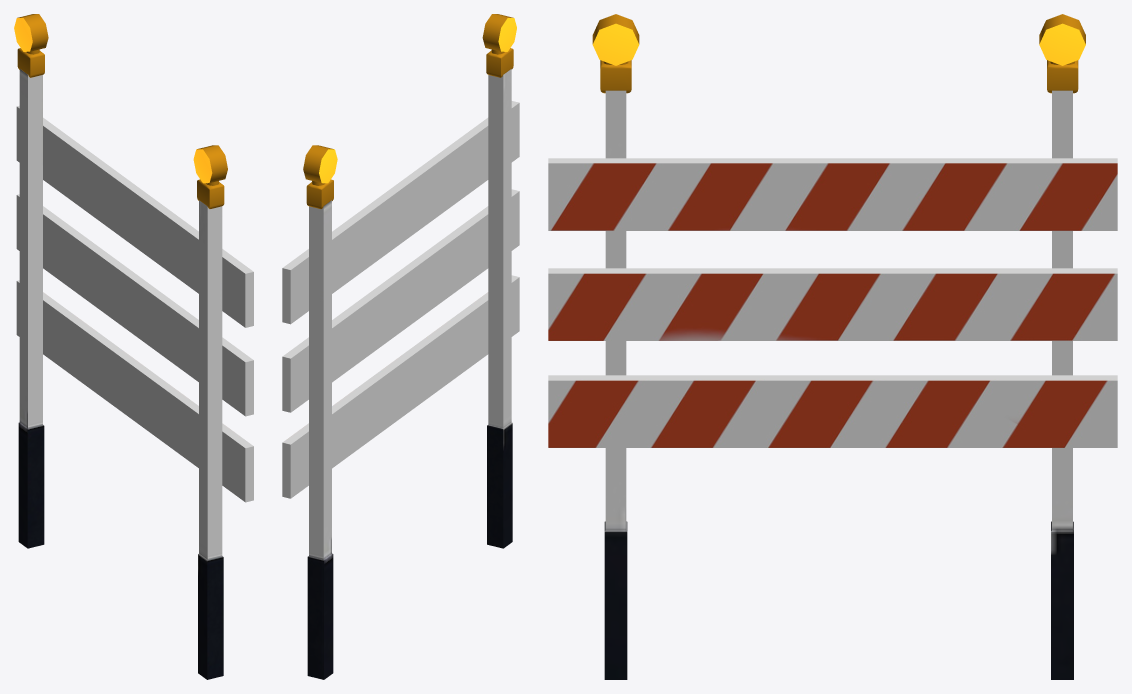
The model's file is road_block.glb.
3 views of the same model, side by side, from view 1: azimuth 30°, elevation 25°; view 2: azimuth 150°, elevation 25°; view 3: azimuth 270°, elevation 25° (orthographic). The views are drawn at different scales.
Visible parts, largest first — view 1: defaultMaterial; view 2: defaultMaterial; view 3: defaultMaterial.
Boxes of the visible parts, x1,y1,x2,y2 form: defaultMaterial: (14,14,253,679); defaultMaterial: (282,14,519,679); defaultMaterial: (548,14,1117,679).
Bounding box in the file's own units: 0.1042 × 2 × 1.57.
1 material, 1 textured.
